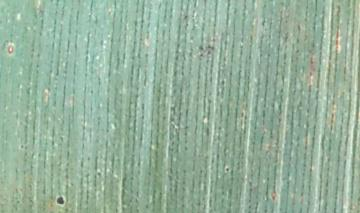tarspot: (56, 197, 64, 205), (225, 167, 229, 171)
